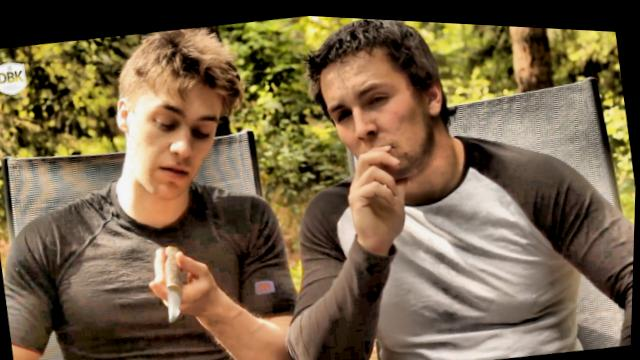knife: (138, 227, 214, 330)
